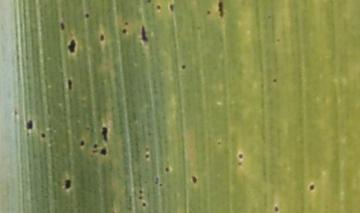tarspot: (138, 23, 149, 44), (66, 38, 78, 54), (100, 126, 109, 144), (217, 1, 224, 18), (66, 77, 73, 92), (25, 119, 33, 131), (64, 178, 72, 190), (190, 174, 198, 184), (99, 146, 107, 156), (168, 3, 175, 14), (59, 21, 66, 32), (308, 183, 316, 192), (236, 152, 244, 161), (98, 32, 105, 42), (272, 205, 280, 213), (120, 27, 128, 35), (40, 131, 47, 140), (270, 77, 278, 84), (179, 63, 186, 71), (140, 201, 147, 209), (83, 12, 90, 20), (79, 139, 85, 148), (205, 9, 212, 16), (92, 142, 99, 149), (123, 20, 130, 27), (155, 3, 161, 11), (274, 37, 282, 43), (164, 166, 170, 173), (137, 194, 143, 201), (137, 188, 144, 194), (144, 153, 150, 160), (215, 140, 221, 146), (157, 182, 164, 187), (145, 1, 152, 4)
